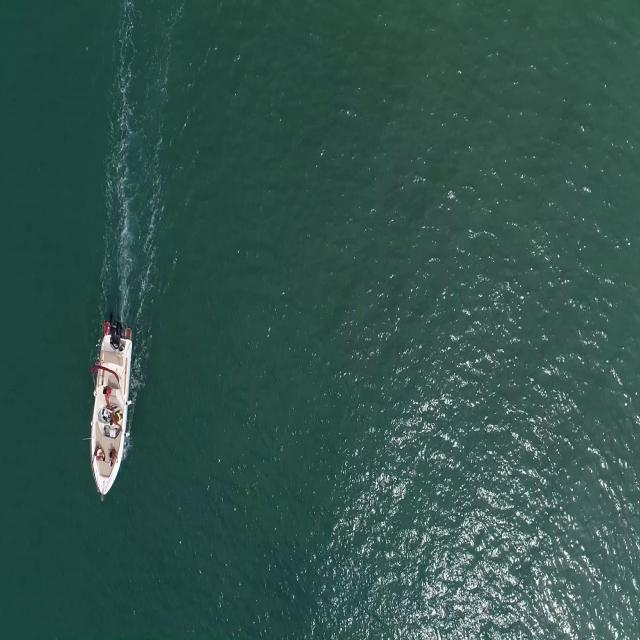boat: (89, 327, 133, 502)
life_buoy: (102, 322, 111, 334)
person: (108, 411, 124, 433), (92, 443, 105, 468), (102, 383, 112, 407), (109, 448, 118, 467)
